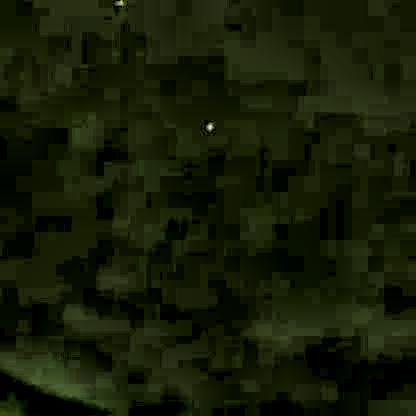golfball: (202, 120, 212, 130)
